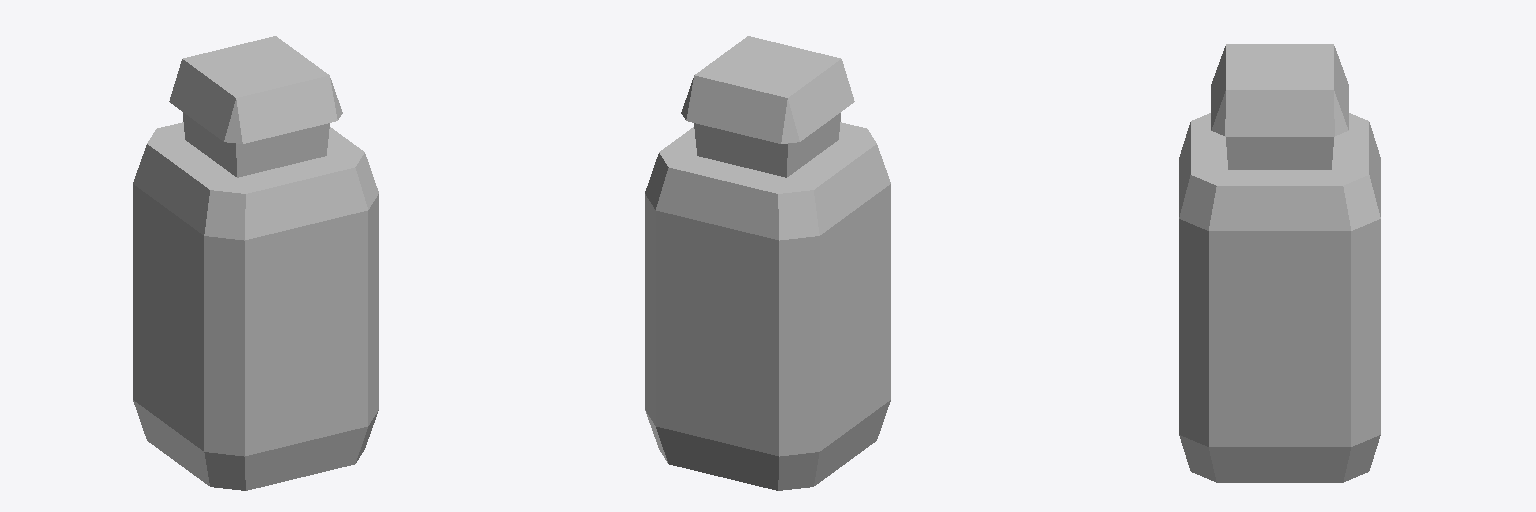
Rendered from shaker-salt.obj.
The picture shows the model from 3 angles: view 1: azimuth 30°, elevation 25°; view 2: azimuth 150°, elevation 25°; view 3: azimuth 270°, elevation 25°; orthographic projection.
Visible parts, largest first — view 1: shaker-salt; view 2: shaker-salt; view 3: shaker-salt.
Boxes of the visible parts, <box> form: shaker-salt: <box>133,36,378,490</box>; shaker-salt: <box>645,36,890,490</box>; shaker-salt: <box>1179,44,1380,482</box>.
Bounding box in the file's own units: 0.0949 × 0.196 × 0.0949.